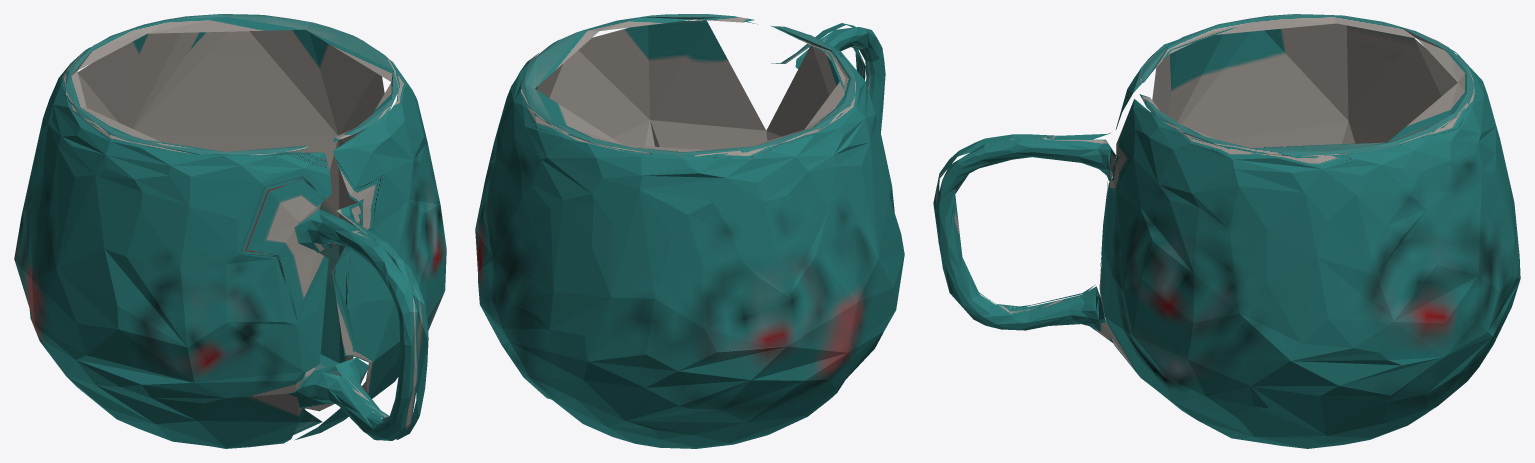
File: kitchenware_mug_d01.glb
3 views of the same model, side by side, from view 1: azimuth 30°, elevation 25°; view 2: azimuth 150°, elevation 25°; view 3: azimuth 270°, elevation 25° (orthographic).
Visible parts, largest first — view 1: geometry_0; view 2: geometry_0; view 3: geometry_0.
Part boxes in pixels (x1,y1,x2,y2): geometry_0: (14, 14, 446, 448); geometry_0: (475, 14, 904, 448); geometry_0: (933, 14, 1520, 448).
Size of the model in its own units: 0.3081 by 0.2597 by 0.42.
Materials: 1 (1 with a texture image).
